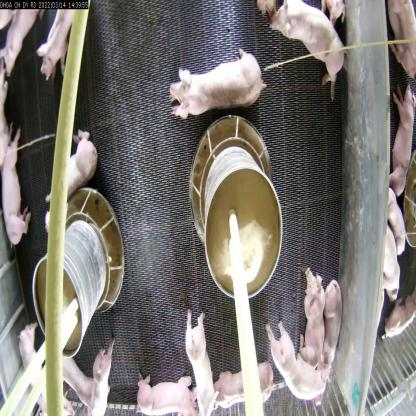Pig: (171, 47, 263, 124), (270, 0, 346, 93), (42, 120, 103, 216), (184, 298, 220, 414), (34, 0, 82, 86), (16, 321, 55, 415), (0, 124, 27, 245), (272, 328, 322, 393), (391, 76, 416, 205), (208, 369, 274, 416), (303, 262, 327, 360), (131, 378, 194, 415), (90, 344, 120, 415), (62, 338, 89, 396), (326, 280, 342, 371)
